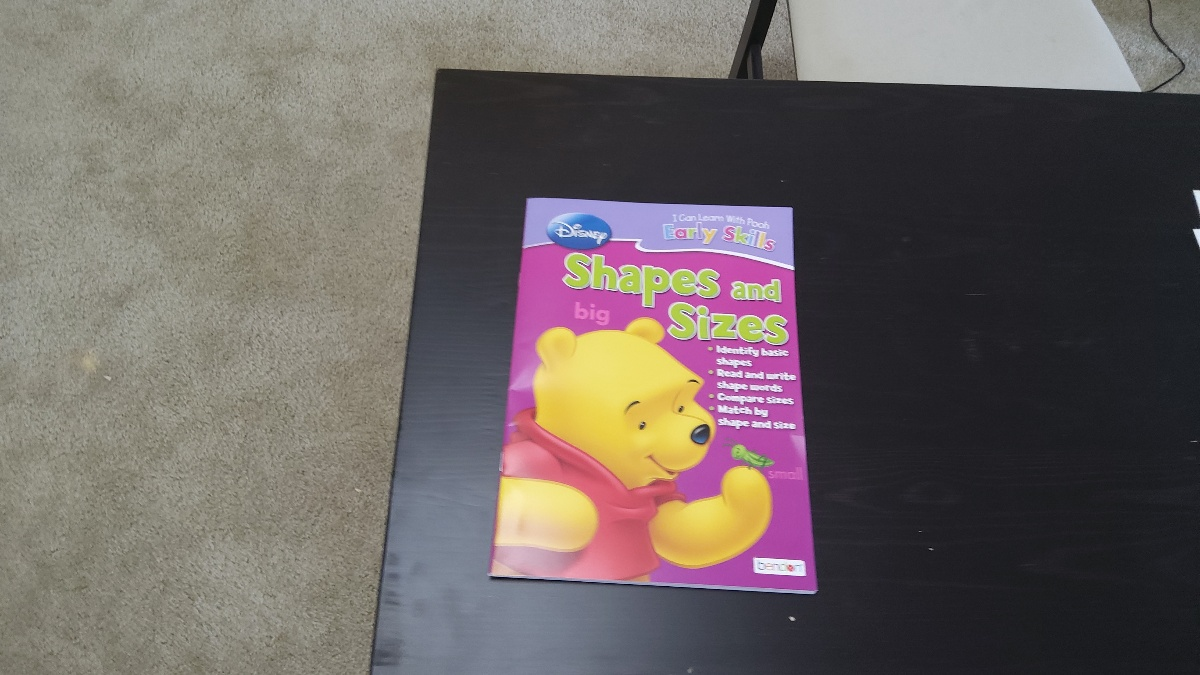book: (482, 192, 823, 602)
